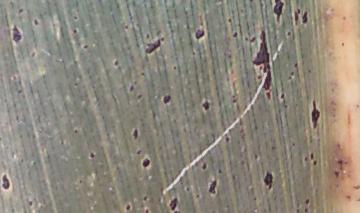tarspot: (250, 29, 276, 100), (143, 34, 166, 57), (309, 98, 321, 130), (271, 1, 286, 23), (9, 23, 23, 46), (261, 168, 275, 191), (191, 27, 208, 41), (207, 176, 218, 197), (1, 173, 12, 192), (168, 195, 179, 211), (160, 92, 173, 105), (200, 98, 212, 112), (301, 8, 309, 28), (141, 156, 152, 170), (291, 10, 302, 24), (277, 90, 289, 102), (200, 159, 209, 174), (131, 127, 140, 141), (87, 149, 97, 161), (140, 194, 152, 204), (223, 133, 233, 145), (126, 83, 136, 94), (16, 5, 26, 16), (26, 197, 35, 209), (32, 16, 40, 29), (302, 195, 312, 205), (111, 59, 121, 69), (71, 126, 81, 136), (70, 26, 79, 37), (230, 29, 239, 40), (80, 43, 93, 50), (124, 203, 133, 213), (225, 16, 235, 25), (183, 184, 192, 194), (171, 63, 179, 74), (311, 159, 320, 168), (284, 29, 293, 38), (215, 166, 223, 176), (194, 191, 201, 202), (292, 60, 300, 69), (243, 34, 249, 46), (143, 206, 153, 213), (309, 150, 315, 161), (136, 148, 142, 157)
